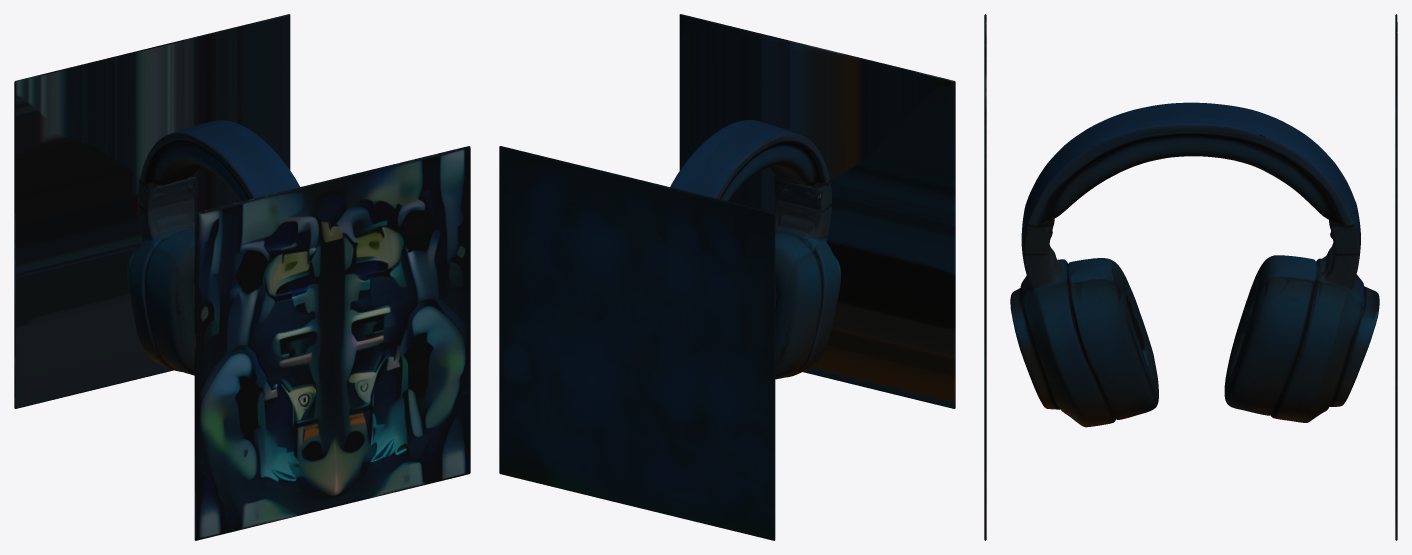
Rendered from Headset.glb.
3 renders of one model, left to right at view 1: azimuth 30°, elevation 25°; view 2: azimuth 150°, elevation 25°; view 3: azimuth 270°, elevation 25°, orthographic. The views are drawn at different scales.
Visible parts, largest first — view 1: Headset; view 2: Headset; view 3: Headset.
Boxes of the visible parts, x1=… form: Headset: x1=14, y1=14, x2=470, y2=540; Headset: x1=499, y1=14, x2=955, y2=540; Headset: x1=984, y1=14, x2=1397, y2=540.
Size of the model in its own units: 1.75 by 1.99 by 1.99.
1 material, 1 textured.
